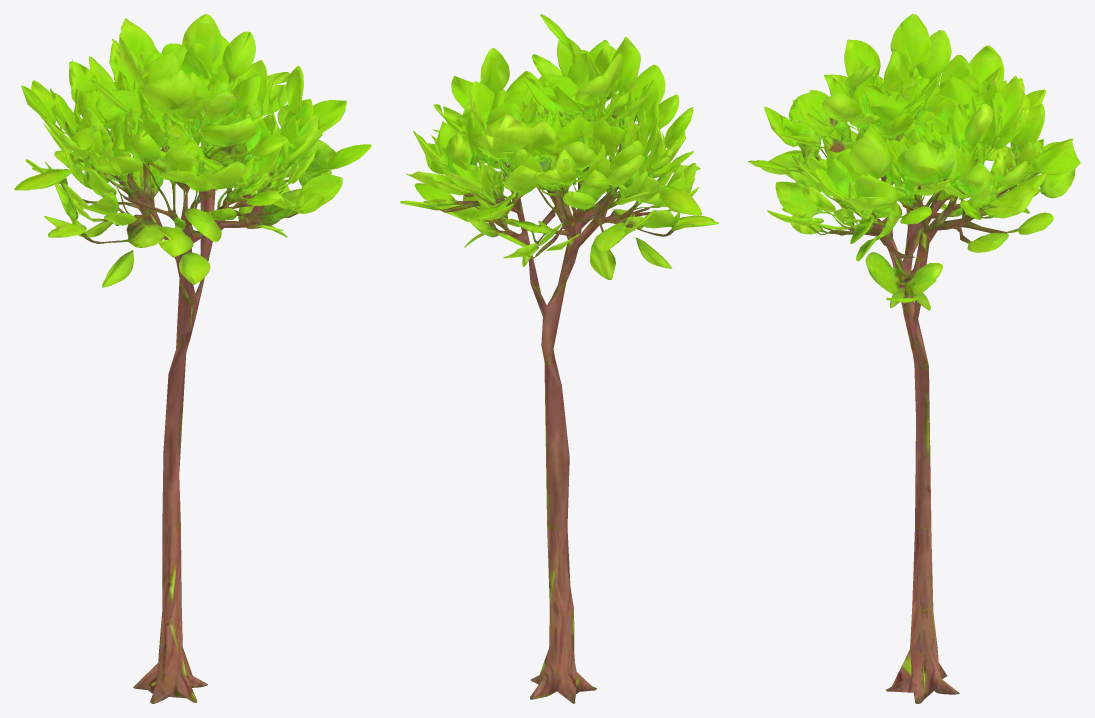
File: tree_acacia.glb
3 renders of one model, left to right at view 1: azimuth 30°, elevation 25°; view 2: azimuth 150°, elevation 25°; view 3: azimuth 270°, elevation 25°, orthographic. The views are drawn at different scales.
Bounding box in the file's own units: 0.9247 × 1.9 × 0.8835.
Materials: 1 (1 with a texture image).
